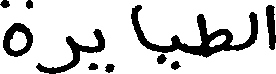ا: (129, 2, 146, 48), (265, 2, 274, 50)
ة: (0, 0, 30, 58)
ر: (38, 34, 79, 72)
ط: (197, 12, 233, 58)
ل: (246, 10, 256, 48)
ي: (89, 26, 113, 71), (156, 33, 179, 71)
